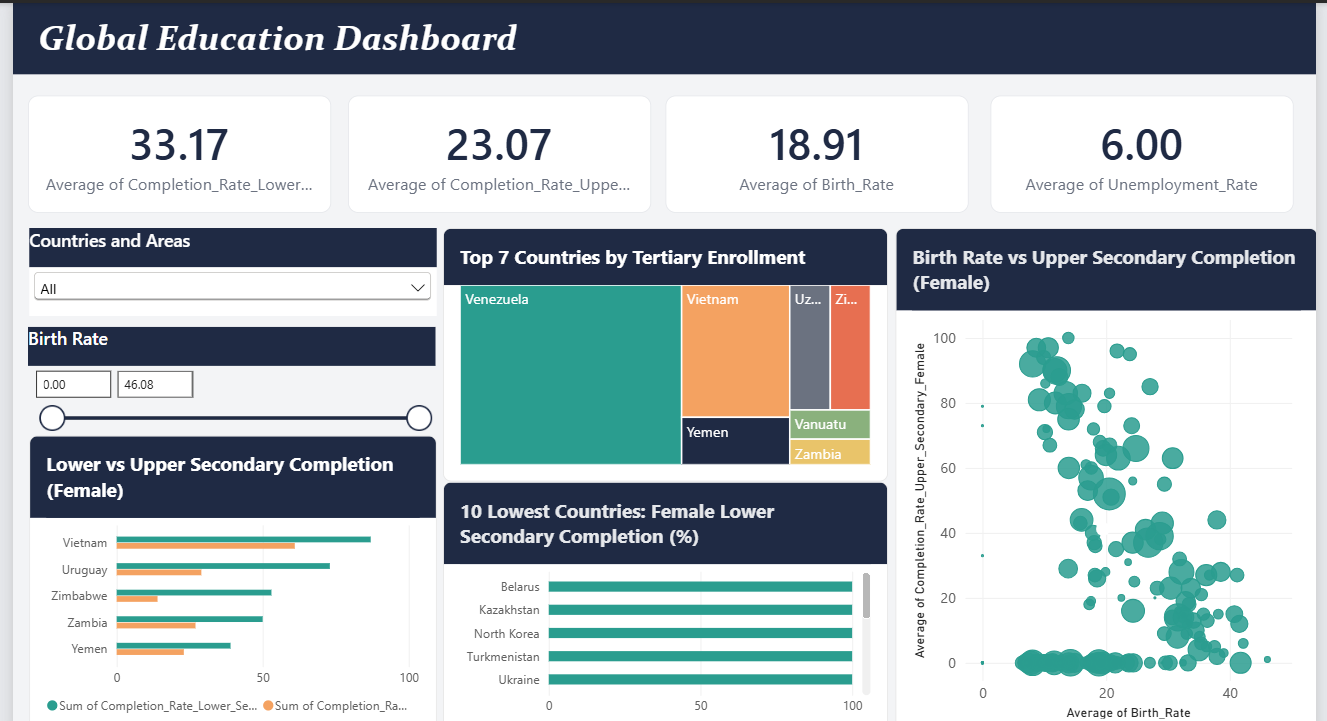

This screenshot's page, from the dashboard's own definition file:
{"tool":"powerbi","page":{"name":"Page 2","canvas":[1280,720],"ordinal":0},"visuals":[{"type":"shape","box":[0,0,1280,70],"z":0},{"type":"card","fields":{"Values":["Avg(in.Completion_Rate_Lower_Secondary_Female)"]},"box":[14.4,90.9,297.2,115.4],"z":1},{"type":"card","fields":{"Values":["Avg(in.Completion_Rate_Upper_Secondary_Female)"]},"box":[328.9,90.9,297.2,115.4],"z":2},{"type":"card","fields":{"Values":["Avg(in.Birth_Rate)"]},"box":[640.6,90.9,297.2,115.4],"z":3},{"type":"card","fields":{"Values":["Avg(in.Unemployment_Rate)"]},"box":[959.4,90.9,297.2,115.4],"z":4},{"type":"scatterChart","title":"Birth Rate vs Upper Secondary Completion (Female)","fields":{"Category":["in.Countries and areas"],"Size":["Avg(in.Unemployment_Rate)"],"X":["Avg(in.Birth_Rate)"],"Y":["Avg(in.Completion_Rate_Upper_Secondary_Female)"]},"box":[866.3,220.9,414.1,499.2],"z":5},{"type":"clusteredBarChart","title":"10 Lowest Countries: Female Lower Secondary Completion (%)","fields":{"Category":["in.Countries and areas"],"Y":["Avg(in.Completion_Rate_Lower_Secondary_Female)"]},"box":[422.1,469.9,436.8,250.3],"z":6},{"type":"clusteredBarChart","title":"Lower vs Upper Secondary Completion (Female)","fields":{"Category":["in.Countries and areas"],"Y":["Sum(in.Completion_Rate_Lower_Secondary_Female)","Sum(in.Completion_Rate_Upper_Secondary_Female)"]},"box":[15.9,424.2,399.6,295.8],"z":7},{"type":"slicer","title":"Countries and Areas","fields":{"Values":["in.Countries and areas"]},"box":[16,220.9,399.6,86.6],"z":8},{"type":"slicer","title":"Birth Rate","fields":{"Values":["in.Birth_Rate"]},"box":[14.4,317.4,399.6,106.8],"z":9},{"type":"treemap","title":"Top 7 Countries by Tertiary Enrollment","fields":{"Group":["in.Countries and areas"],"Values":["Avg(in.Gross_Tertiary_Education_Enrollment)"]},"box":[422.1,220.9,436.8,249.1],"z":10}]}

Visuals, with their boxes on the page's 1280x720 design canvas (x1, y1, x2, y2). These are canvas units, not pixel positions in the 1327x721 screenshot, which may show the page scaled, cropped or inside an application window:
shape: BBox(0, 0, 1280, 70)
card - Avg(in.Completion_Rate_Lower_Secondary_Female): BBox(14, 91, 312, 206)
card - Avg(in.Completion_Rate_Upper_Secondary_Female): BBox(329, 91, 626, 206)
card - Avg(in.Birth_Rate): BBox(641, 91, 938, 206)
card - Avg(in.Unemployment_Rate): BBox(959, 91, 1257, 206)
"Birth Rate vs Upper Secondary Completion (Female)" scatterChart: BBox(866, 221, 1280, 720)
"10 Lowest Countries: Female Lower Secondary Completion (%)" clusteredBarChart: BBox(422, 470, 859, 720)
"Lower vs Upper Secondary Completion (Female)" clusteredBarChart: BBox(16, 424, 416, 720)
"Countries and Areas" slicer: BBox(16, 221, 416, 308)
"Birth Rate" slicer: BBox(14, 317, 414, 424)
"Top 7 Countries by Tertiary Enrollment" treemap: BBox(422, 221, 859, 470)
